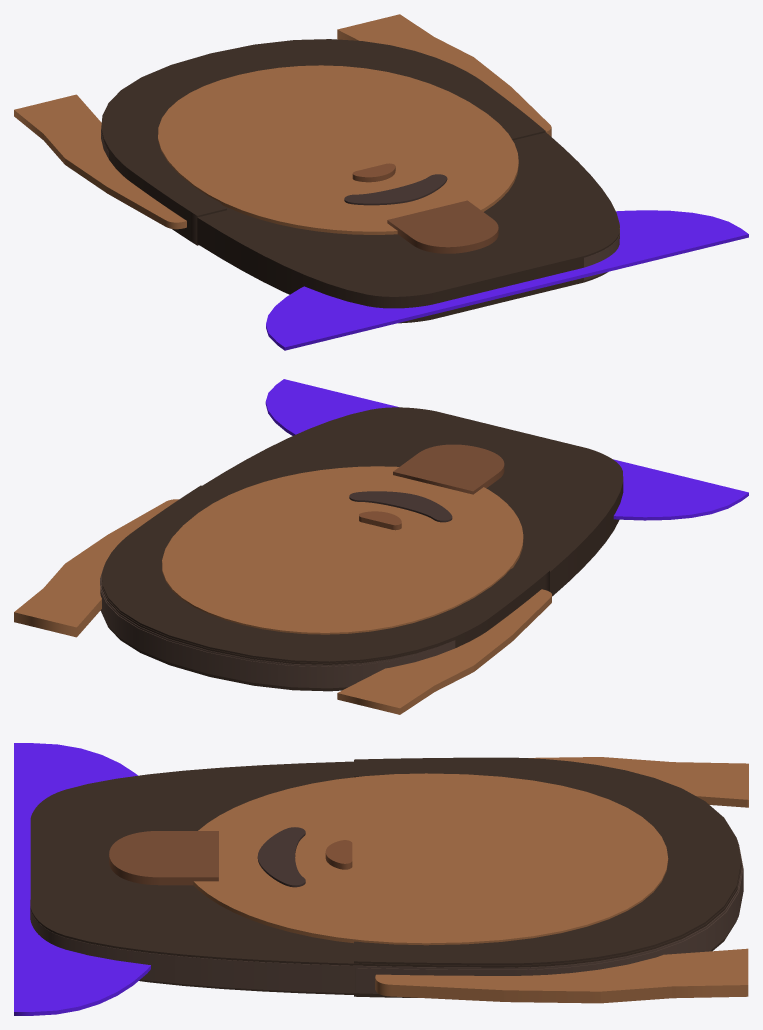
File: emoji_u1f486_1f3fe_200d_2640.glb
3 renders of one model, top to bottom at view 1: azimuth 30°, elevation 25°; view 2: azimuth 150°, elevation 25°; view 3: azimuth 270°, elevation 25°, orthographic. The views are drawn at different scales.
Visible parts, largest first — view 1: emoji_u1f486_1f3fe_200d_2640; view 2: emoji_u1f486_1f3fe_200d_2640; view 3: emoji_u1f486_1f3fe_200d_2640.
Boxes of the visible parts, bbox=[...] form: emoji_u1f486_1f3fe_200d_2640: bbox=[14, 14, 748, 350]; emoji_u1f486_1f3fe_200d_2640: bbox=[14, 379, 748, 714]; emoji_u1f486_1f3fe_200d_2640: bbox=[14, 743, 748, 1015].
Bounding box in the file's own units: 0.0294 × 0.0026 × 0.0339.
